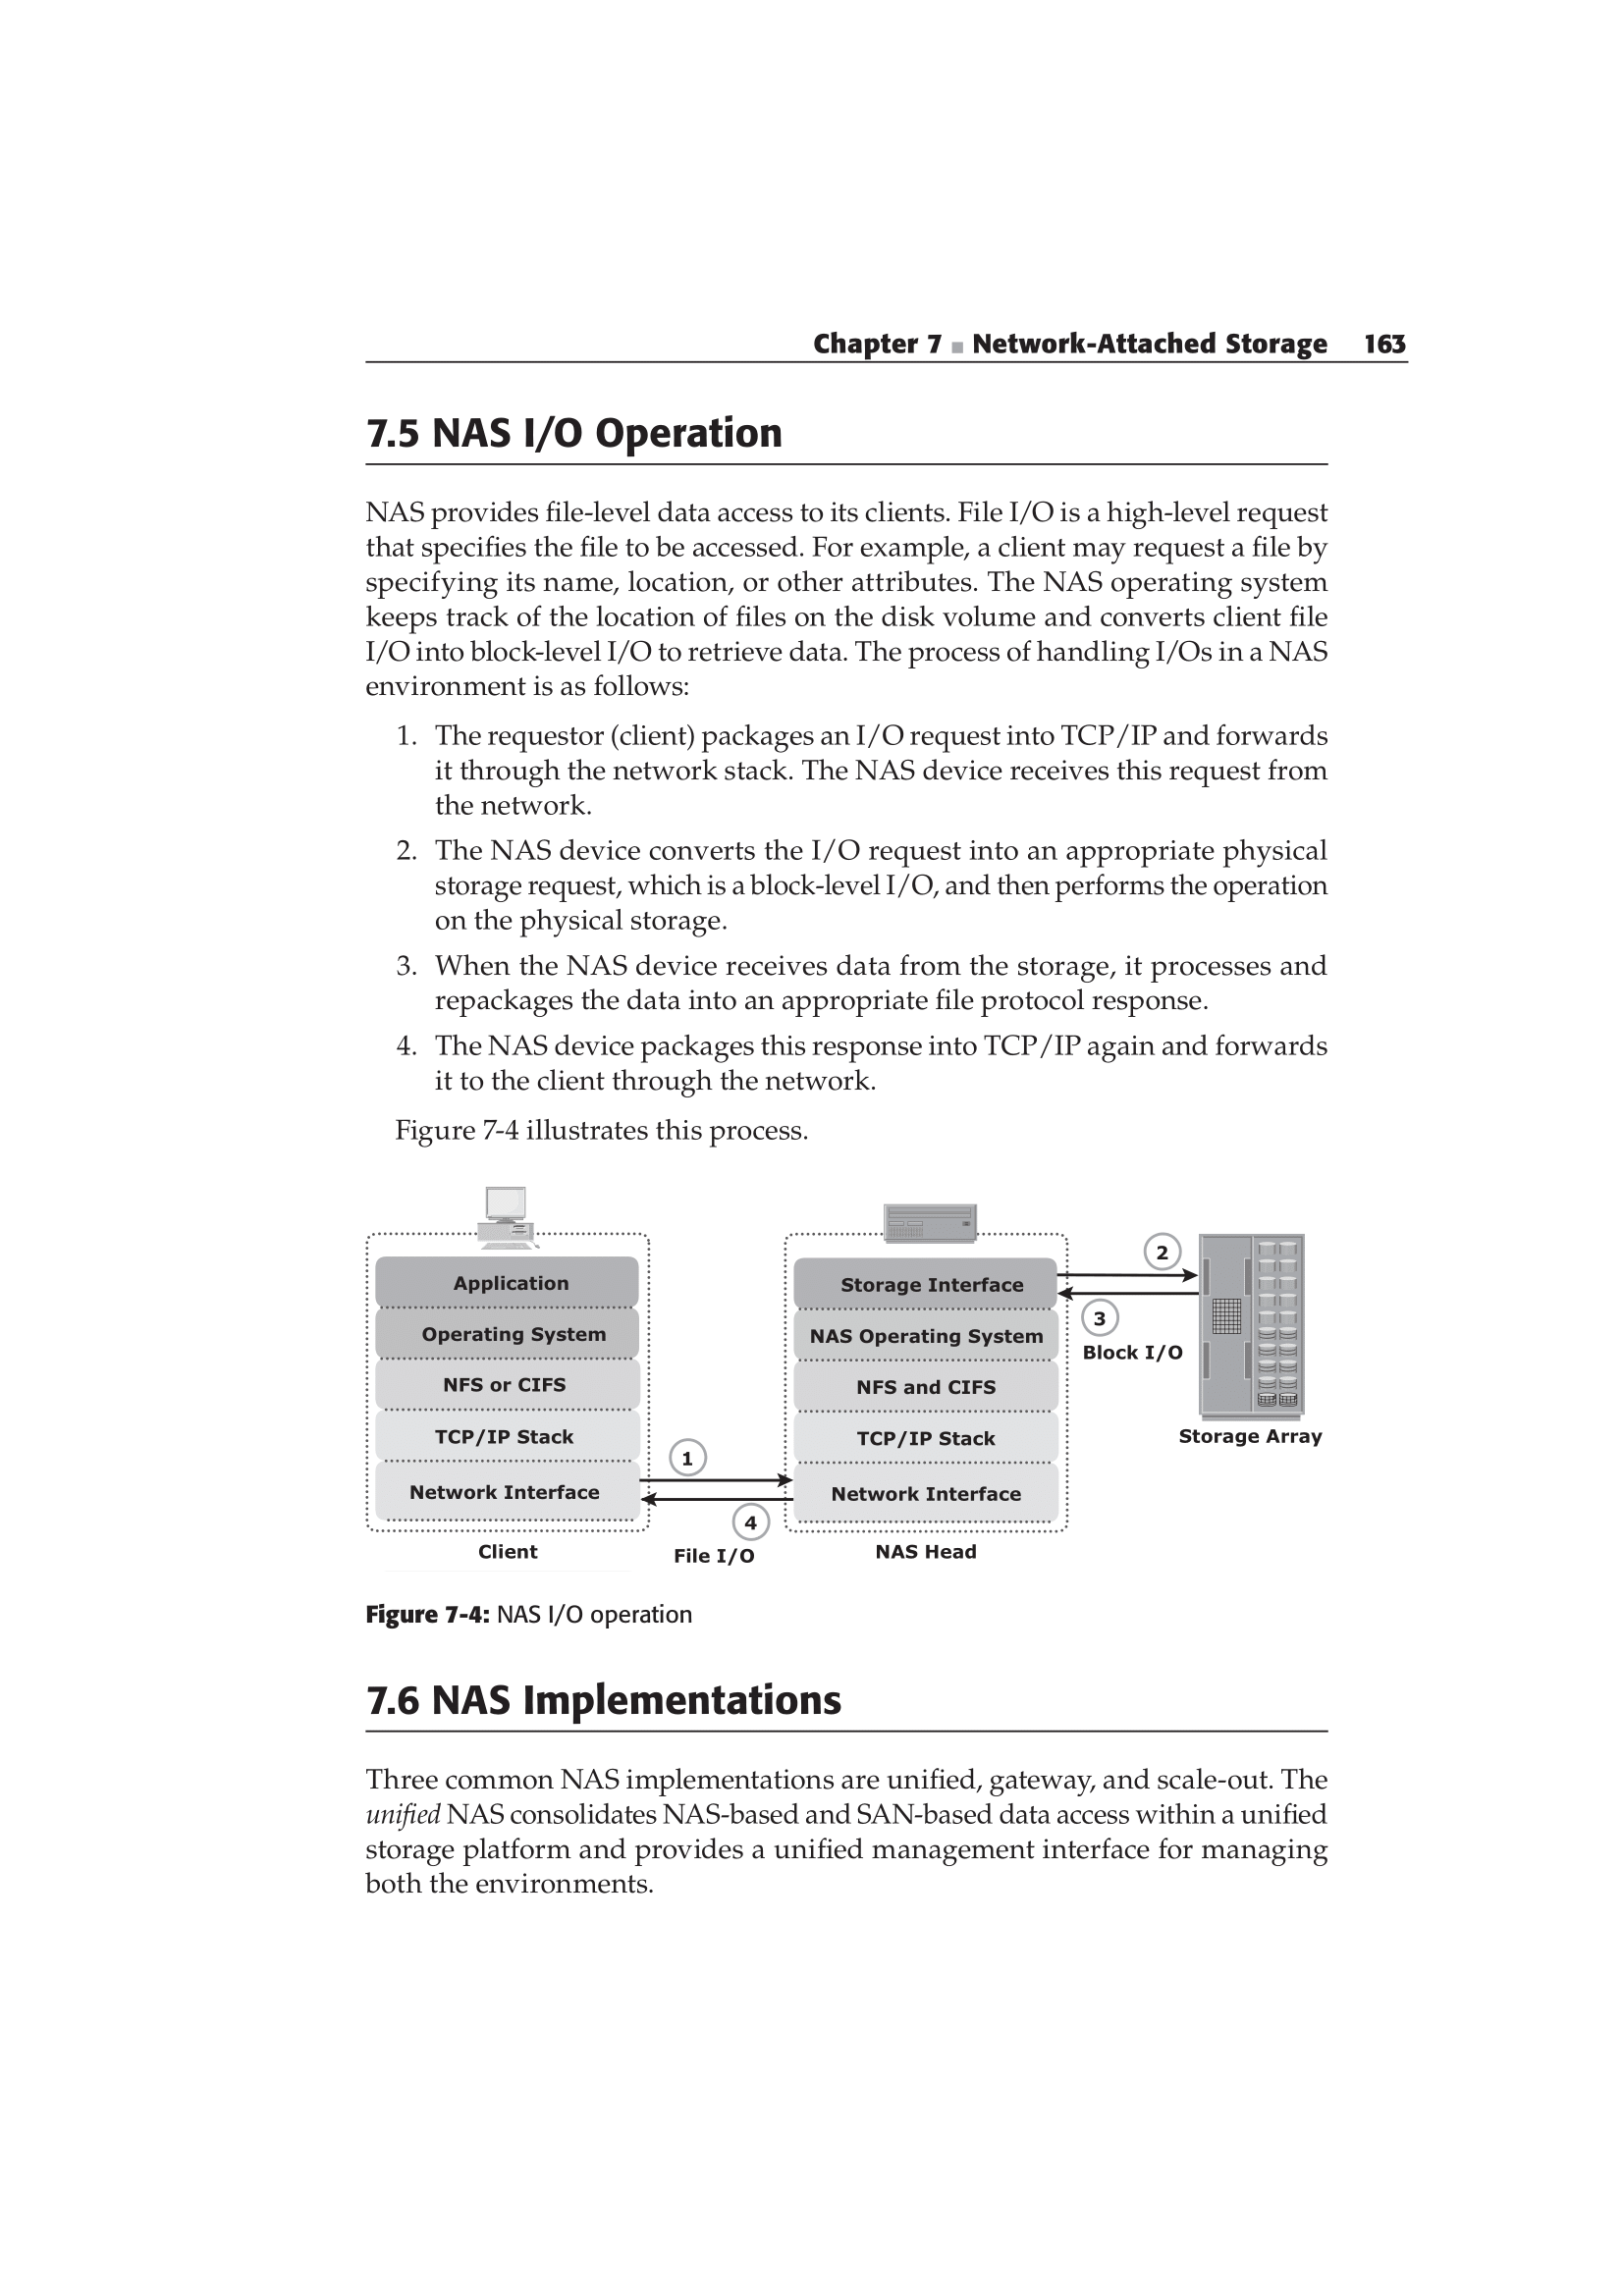Image: (206, 1169, 1533, 1562)
Paragraph: (297, 716, 1500, 1148), (251, 490, 1475, 707), (327, 1747, 1395, 1945), (717, 272, 1442, 360), (260, 390, 992, 474), (330, 1668, 919, 1718), (235, 1592, 759, 1634)
